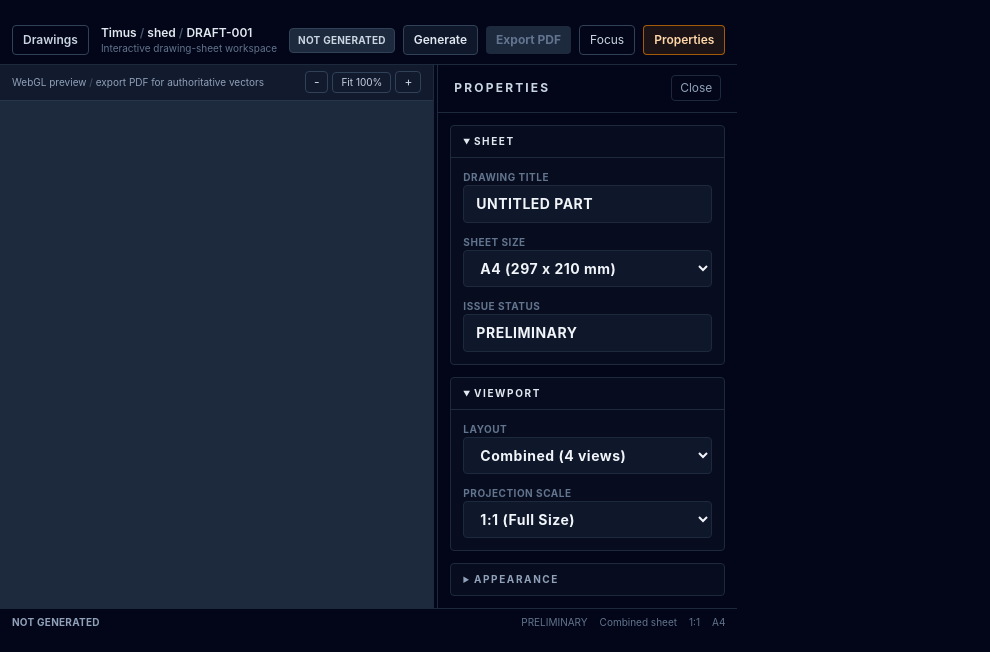
Test: Timus canvas-first workspace › keeps the sheet central while panels can be independently opened and focused
The width and height of the screenshot is (990, 652).
Expected: the element with test id "drafting-sheet-viewport" is shown, [0,100,433,608]
Expected: the element named "Drawing properties" is shown, [437,64,737,608]
Click the button with aria-label "Show drawing navigator": (50, 40) [12,25,89,55]
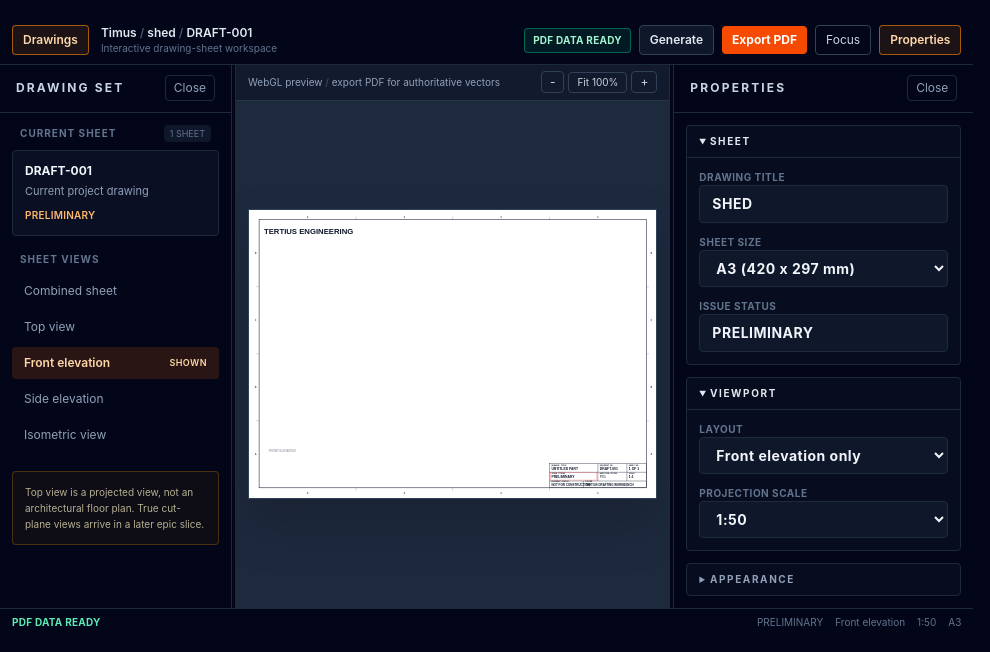
Result: the element named "Drawing navigator" is shown at [0,64,232,608]
Click the button with aria-label "Enter canvas focus mode": (843, 40) [815,25,871,55]
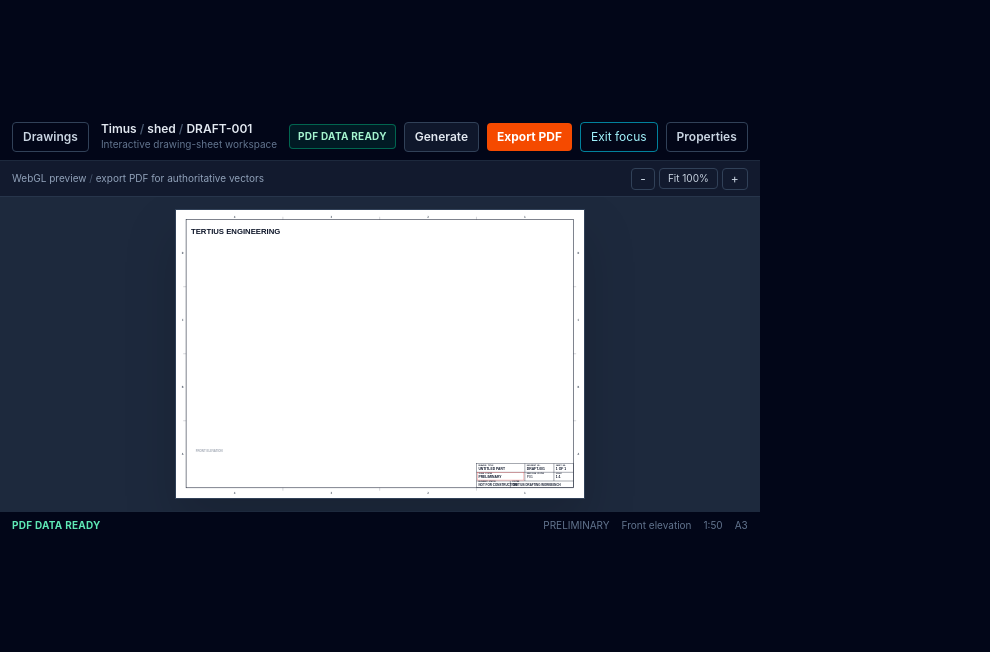
Expected: the element with test id "drafting-sheet-viewport" is shown, [175,209,585,499]
Click the button with aria-label "Exit canvas focus mode": (619, 137) [580,122,658,152]
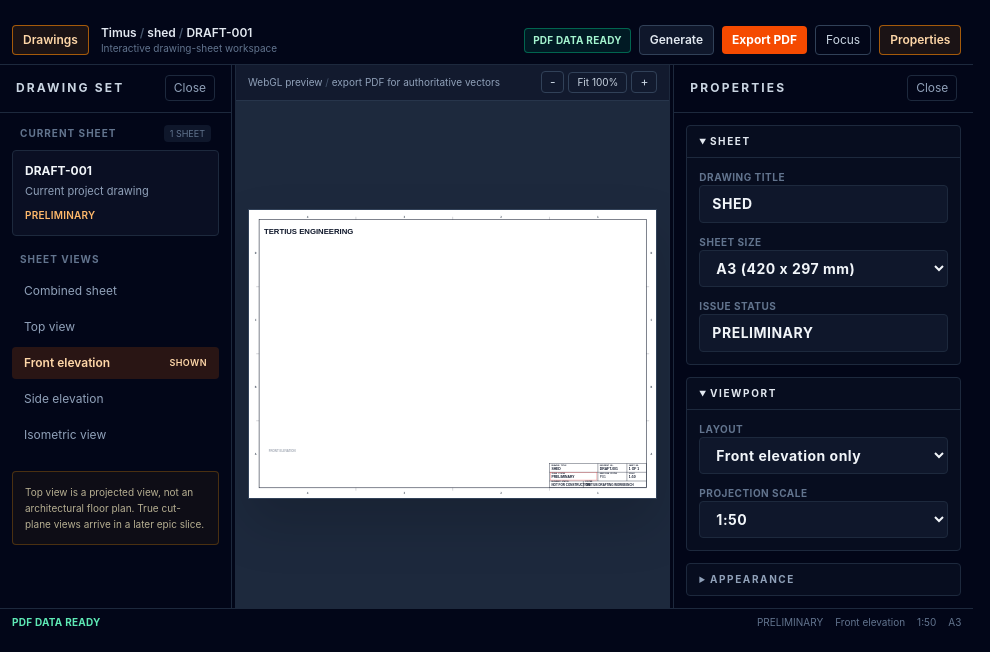
Result: the element named "Drawing navigator" is shown at [0,64,232,608]
Result: the element named "Drawing properties" is shown at [673,64,973,608]
